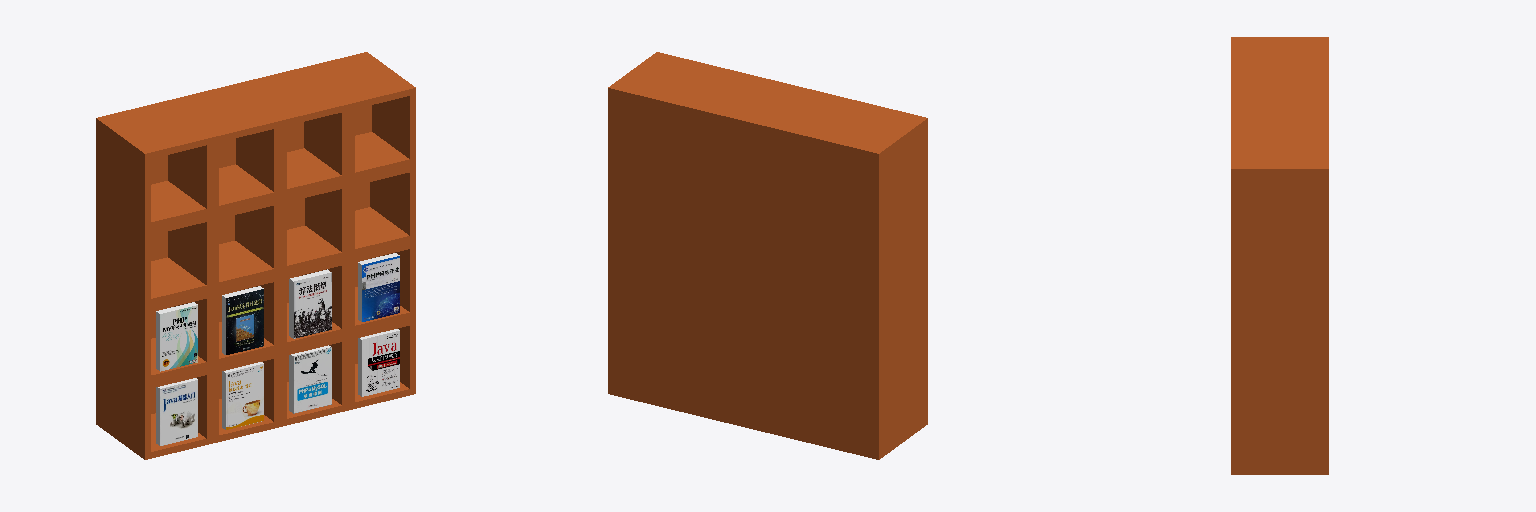
The picture shows the model from 3 angles: view 1: azimuth 30°, elevation 25°; view 2: azimuth 150°, elevation 25°; view 3: azimuth 270°, elevation 25°; orthographic projection.
Parts seen in each view (by area): view 1: 立方体.001, 立方体.003, 立方体, 立方体.002, 立方体.004, 立方体.015, 立方体.013, 立方体.016, 立方体.014; view 2: 立方体.001; view 3: 立方体.001.
Part boxes in pixels (x1,y1,x2,y2): 立方体.001: (96, 52, 415, 459); 立方体.003: (289, 269, 331, 338); 立方体: (222, 286, 263, 354); 立方体.002: (156, 302, 197, 371); 立方体.004: (358, 253, 399, 321); 立方体.015: (289, 345, 331, 413); 立方体.013: (222, 362, 263, 429); 立方体.016: (358, 329, 399, 396); 立方体.014: (156, 378, 197, 445); 立方体.001: (608, 52, 927, 459); 立方体.001: (1231, 37, 1328, 474).
Size of the model in its own units: 3.07 by 3.31 by 0.9628.
Materials: 10 (8 with a texture image).